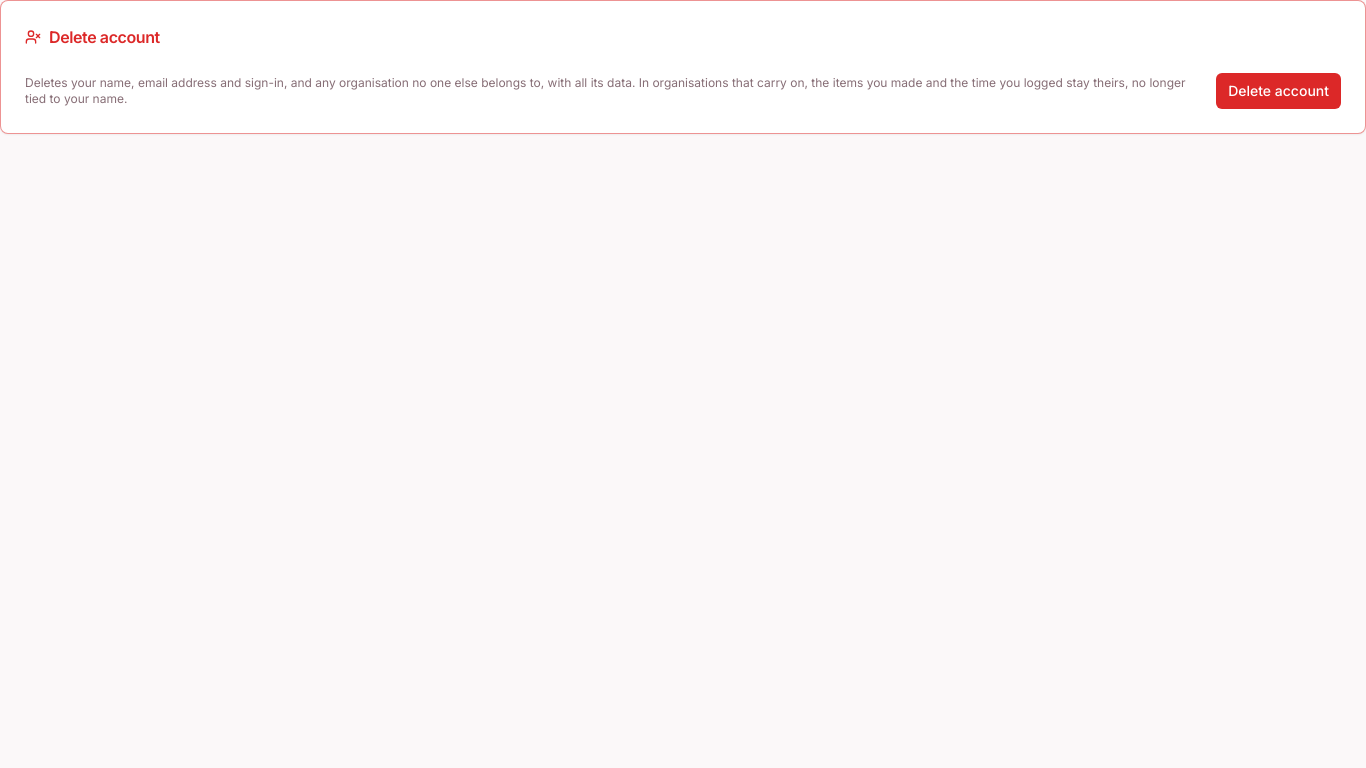
Test: deleting your own account › asks for the word first
Click the button "Delete account".
click(1279, 91)  # box [1216,73,1341,109]
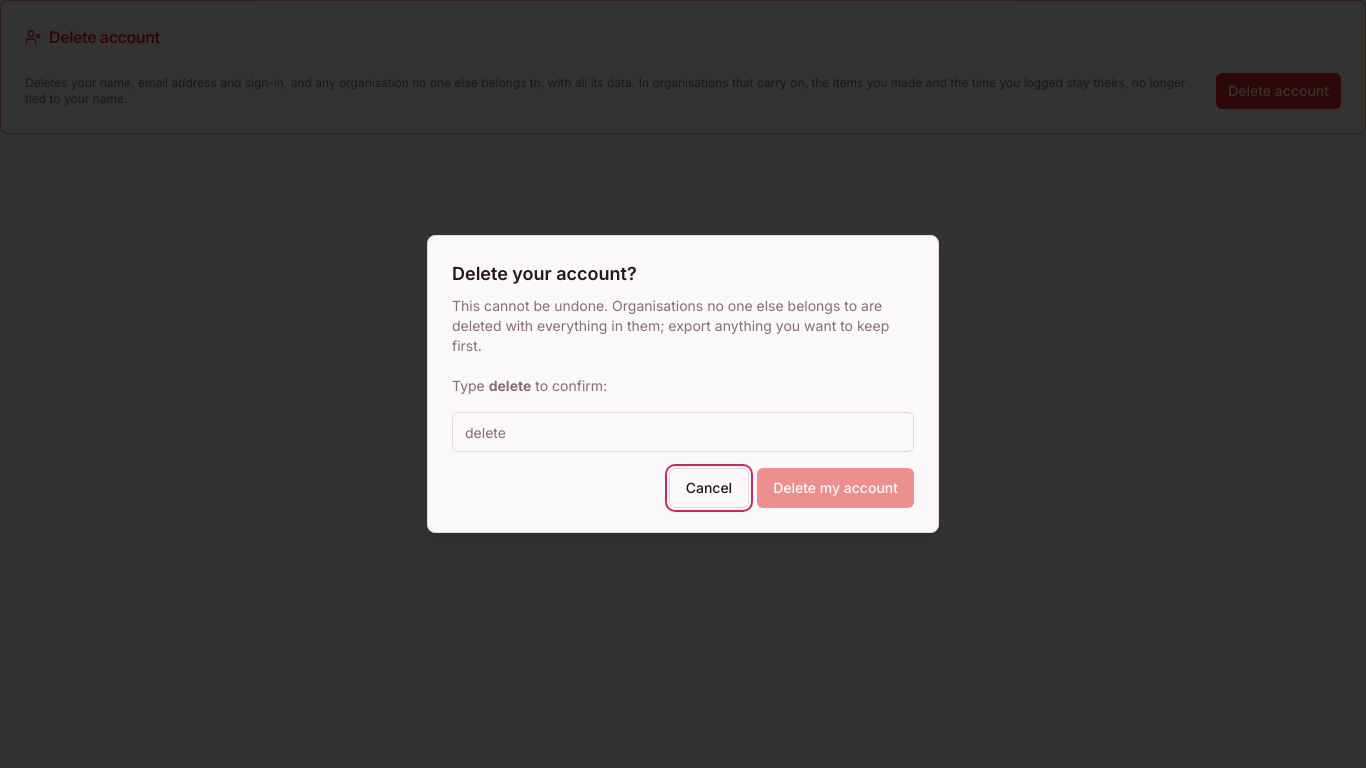
Type "nope" into the field named "Confirm account deletion".
click(683, 432); type("nope")  # box [452,412,914,452]
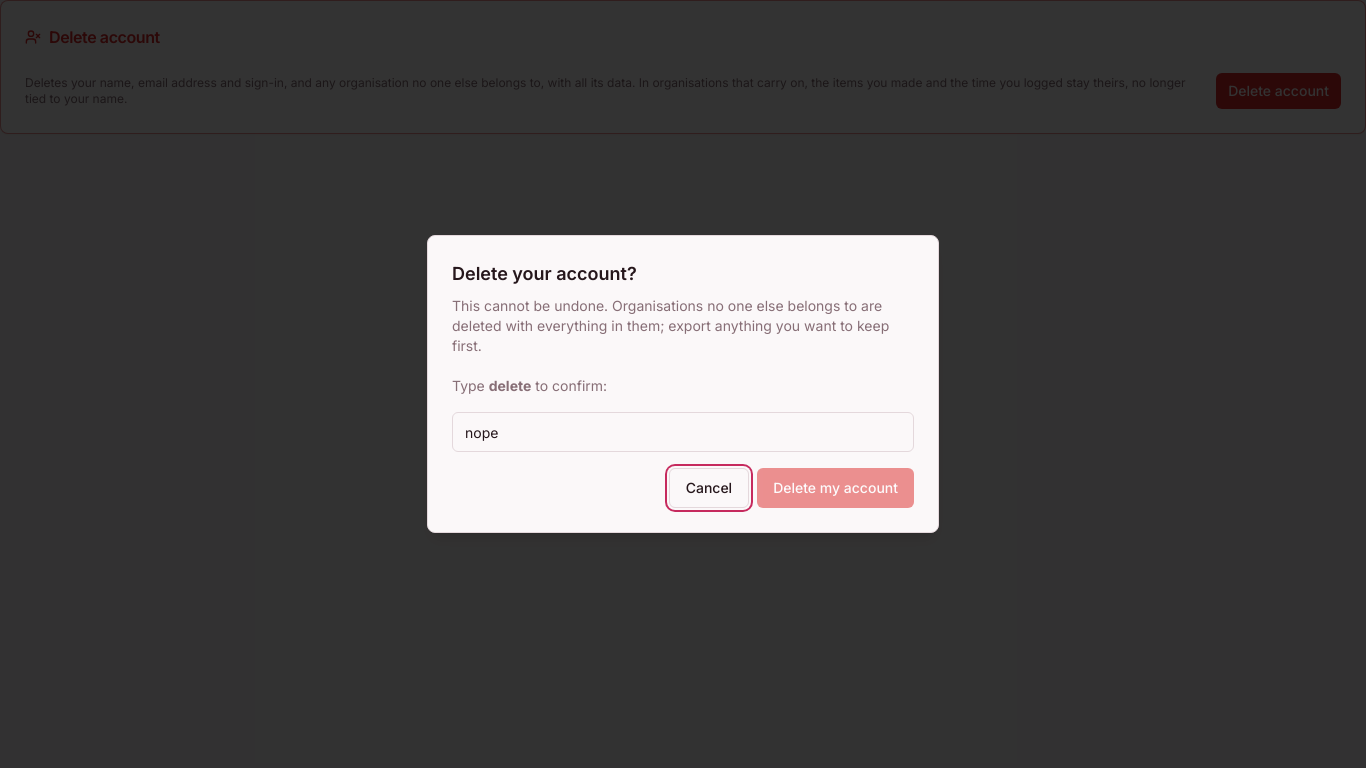
Now the button "Delete my account" is disabled, box [757,468,914,508]
Replace the text in the field named "Confirm account deletion" with " Delete " at x=683, y=432, box [452,412,914,452]
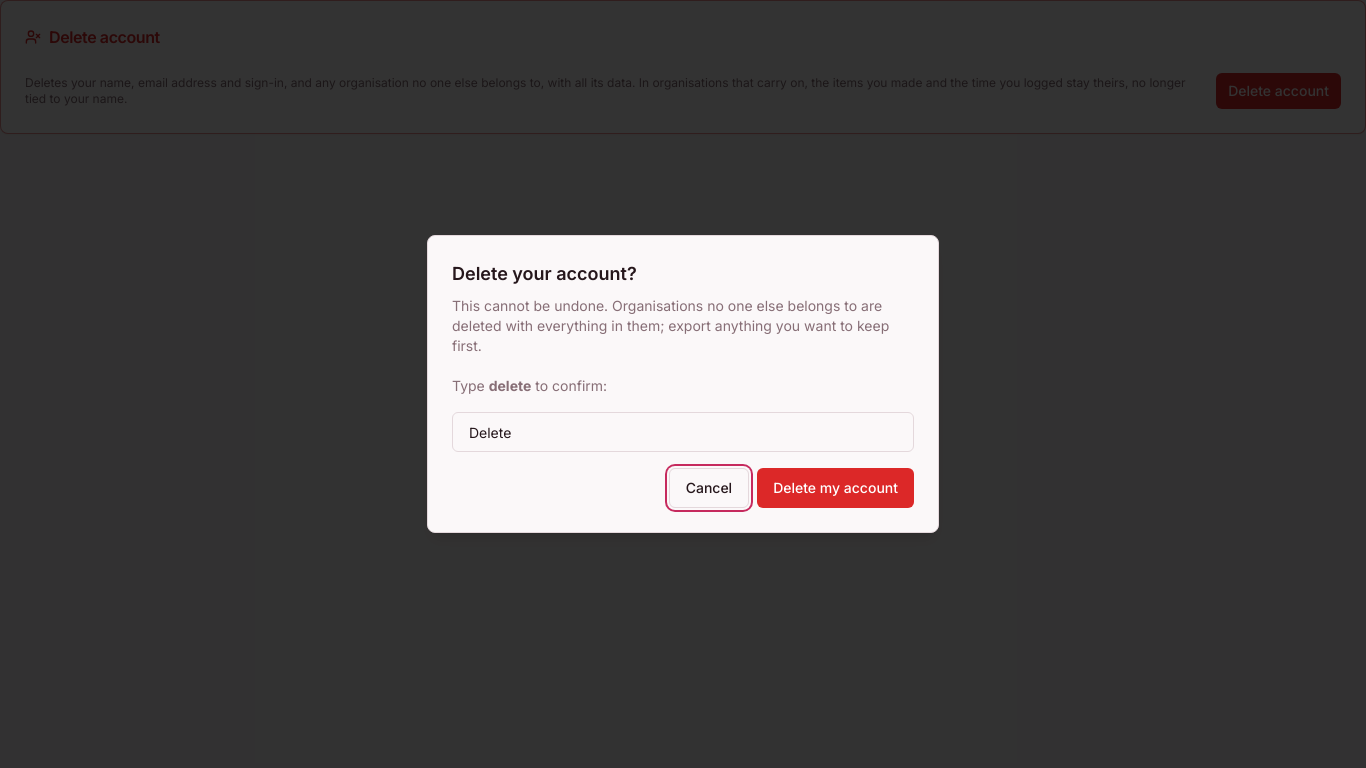
Now the button "Delete my account" is enabled, box [757,468,914,508]
